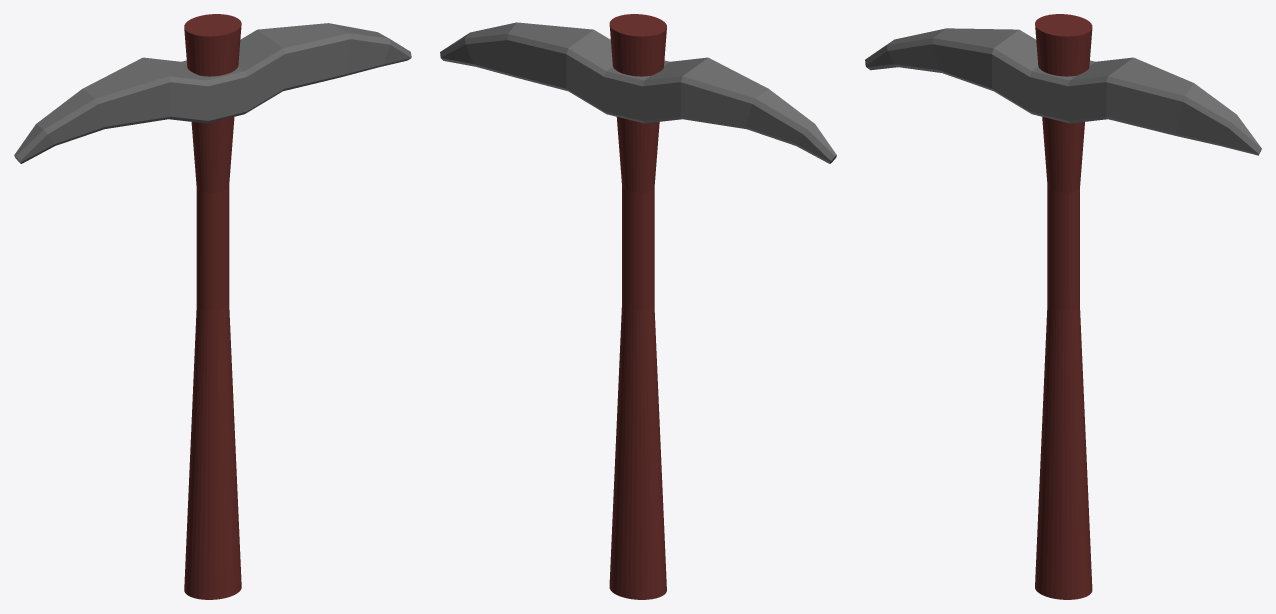
File: Pickaxe - prototype.fbx
3 views of the same model, side by side, from view 1: azimuth 30°, elevation 25°; view 2: azimuth 150°, elevation 25°; view 3: azimuth 330°, elevation 25° (orthographic).
Parts seen in each view (by area): view 1: Cylinder, Cube; view 2: Cylinder, Cube; view 3: Cylinder, Cube.
Part boxes in pixels (x1=…): Cylinder: x1=184, y1=14, x2=241, y2=599; Cube: x1=14, y1=23, x2=411, y2=163; Cylinder: x1=609, y1=14, x2=666, y2=599; Cube: x1=440, y1=22, x2=836, y2=163; Cylinder: x1=1035, y1=14, x2=1092, y2=599; Cube: x1=865, y1=28, x2=1261, y2=155.
Size of the model in its own units: 129 by 175 by 16.57.
